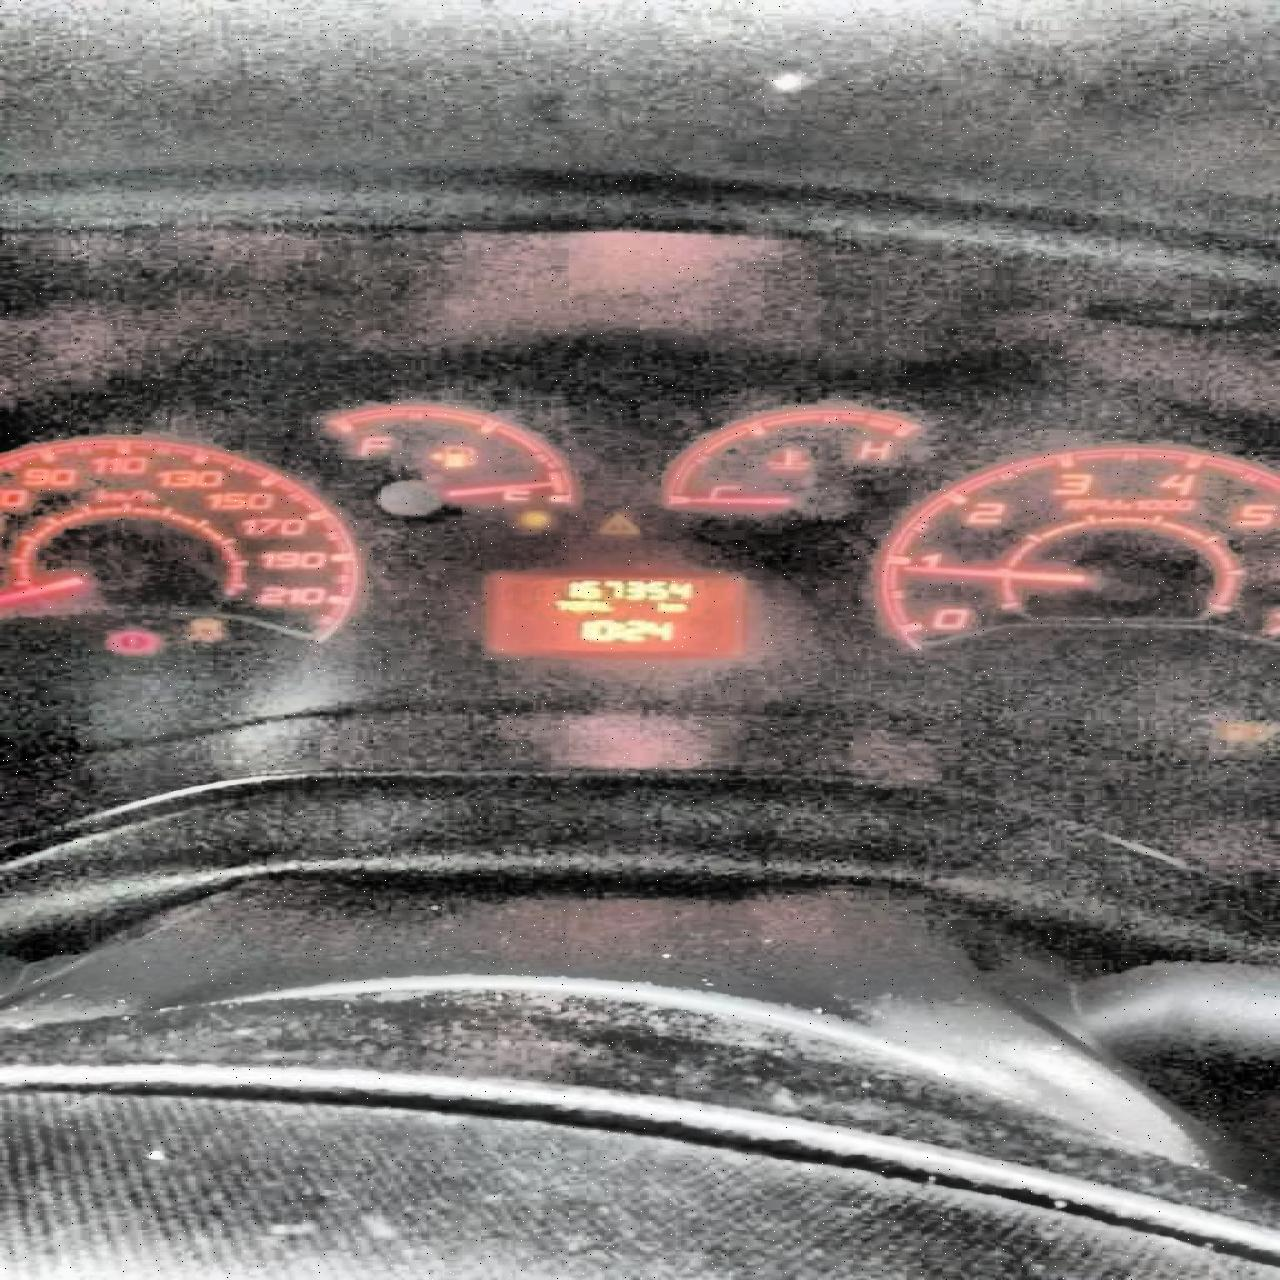0: (588, 618, 611, 641)
1: (566, 578, 576, 598), (580, 619, 588, 641)
2: (622, 619, 647, 641)
3: (625, 579, 645, 599)
4: (647, 620, 675, 640), (667, 580, 693, 598)
5: (645, 579, 667, 599)
6: (578, 578, 600, 598)
7: (602, 578, 622, 598)
X: (591, 599, 613, 611), (667, 601, 687, 611), (551, 599, 567, 610), (613, 620, 620, 638), (566, 599, 578, 610), (655, 600, 667, 611), (580, 599, 588, 611)
odometer: (486, 568, 756, 658)
